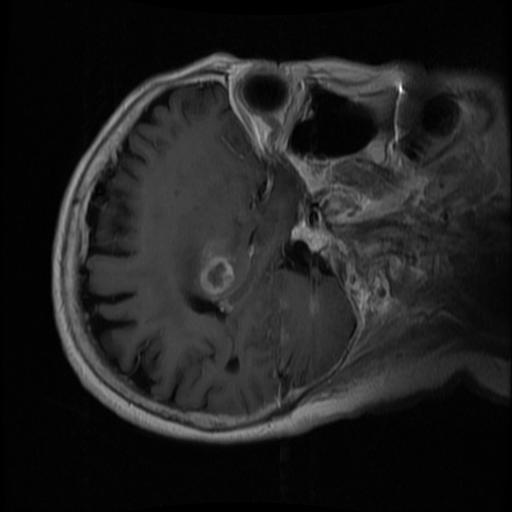glioma: (199, 239, 235, 298)
